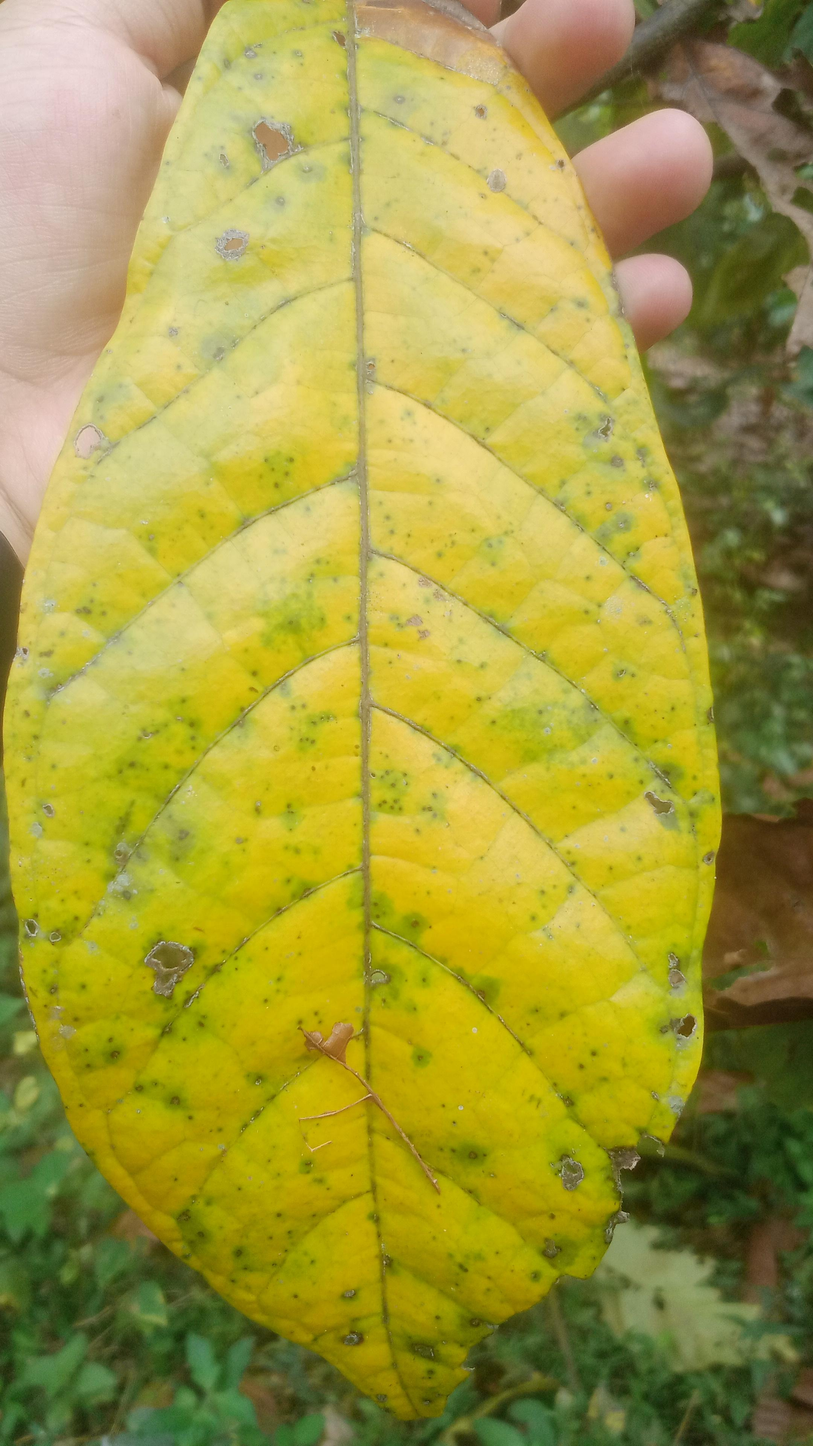deficiencia_potasio: (0, 0, 719, 1442)
